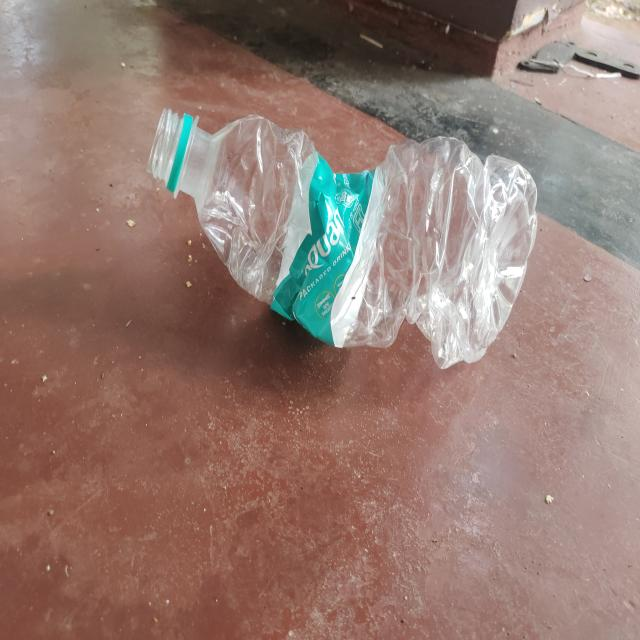plastic: (152, 104, 538, 370)
